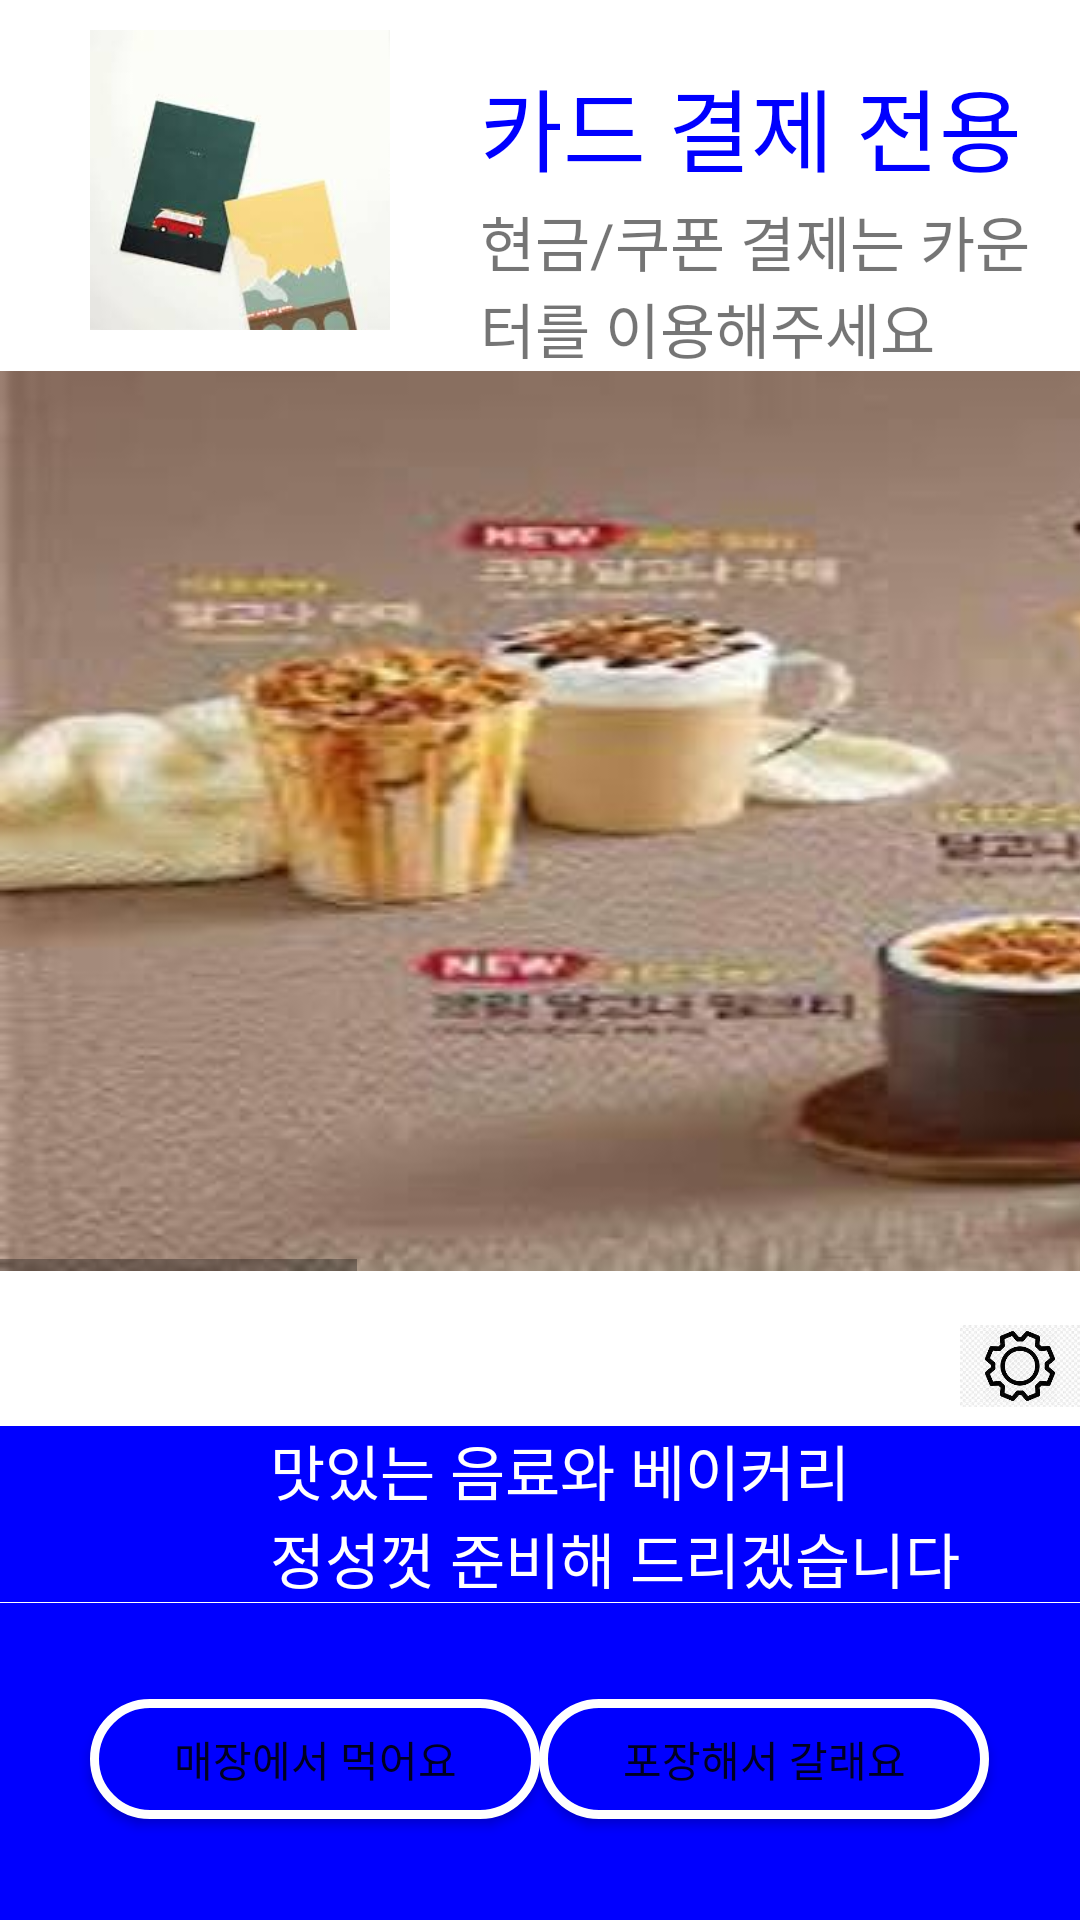

Icons on this 1080px×1920px Android screen, each with the point to tap as [x,y]:
card: [224,215]
setting: [1017,1363]
